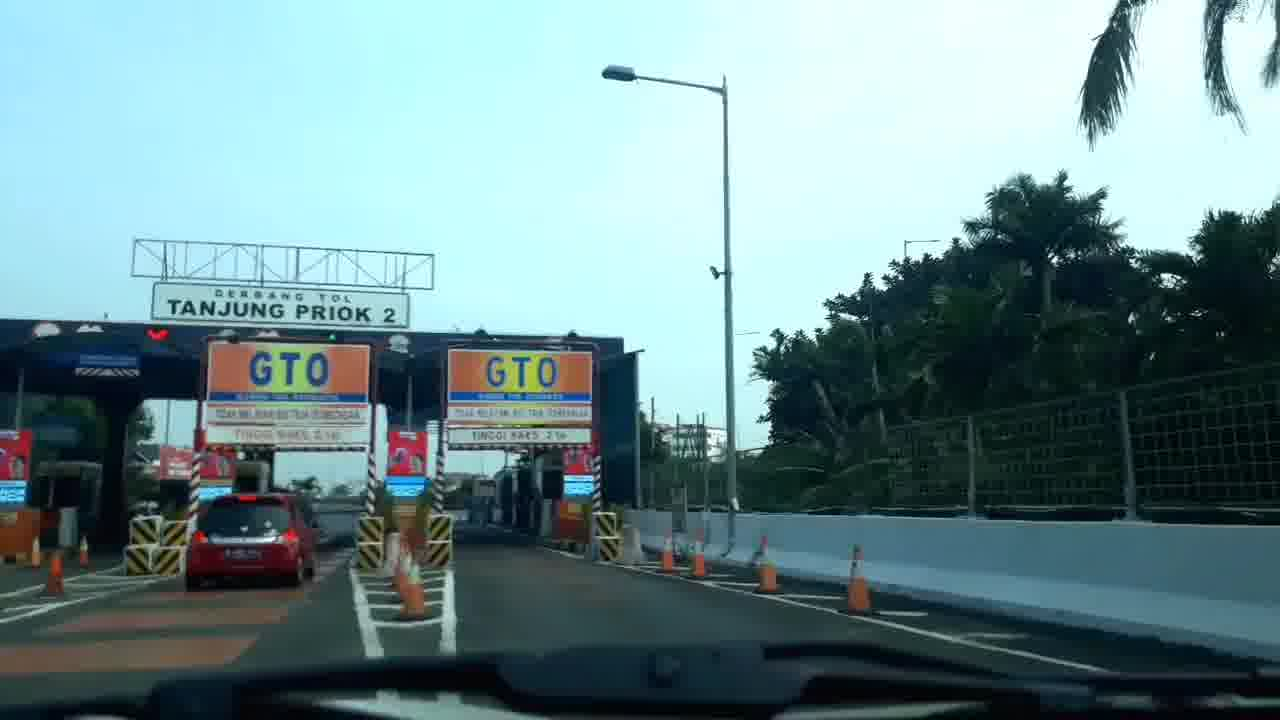plate_positive: (223, 547, 264, 561)
